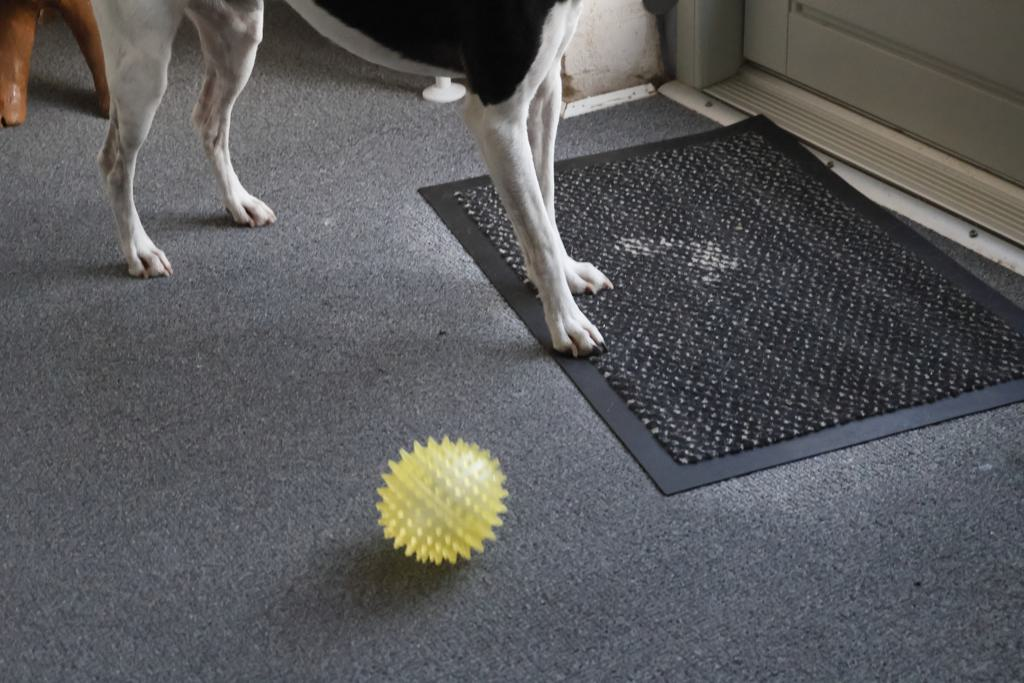Cattle: (0, 0, 128, 142)
Dog: (88, 0, 620, 369)
